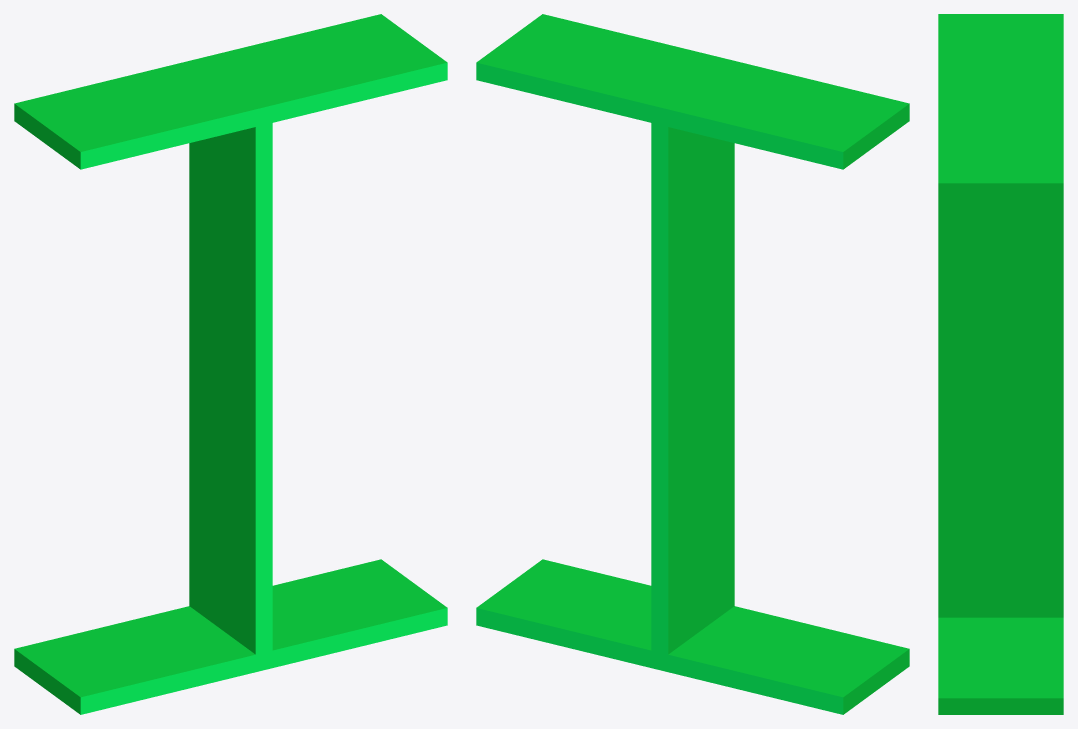
Rendered from 4d00709b-7720-4c22-bae5-373928acf3d4.glb.
3 views of the same model, side by side, from view 1: azimuth 30°, elevation 25°; view 2: azimuth 150°, elevation 25°; view 3: azimuth 270°, elevation 25° (orthographic). The views are drawn at different scales.
Visible parts, largest first — view 1: i_AlphaProta_Green; view 2: i_AlphaProta_Green; view 3: i_AlphaProta_Green.
Boxes of the visible parts, x1,y1,x2,y2 form: i_AlphaProta_Green: (14,14,447,714); i_AlphaProta_Green: (476,14,909,714); i_AlphaProta_Green: (938,14,1063,714).
Size of what is drawn, in the model's own units: 0.1436 by 0.2105 by 0.045.
2 materials, 2 textured.
